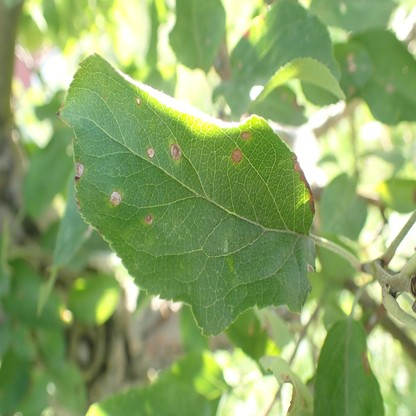frogeye_leaf_spot: (291, 152, 317, 213), (282, 373, 296, 412), (109, 192, 122, 207), (170, 144, 181, 159), (76, 162, 84, 180), (231, 150, 242, 161), (144, 214, 153, 225), (241, 132, 250, 140), (147, 149, 154, 158), (307, 263, 314, 272), (136, 97, 141, 105)
